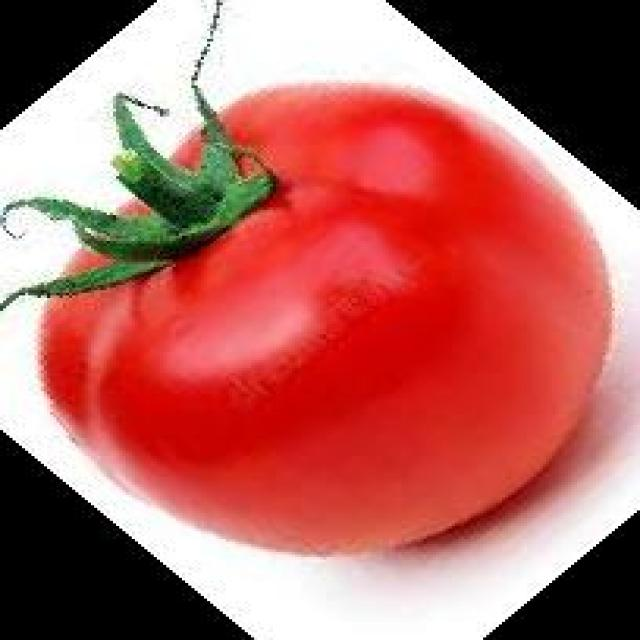Tomato: (32, 77, 613, 560)
